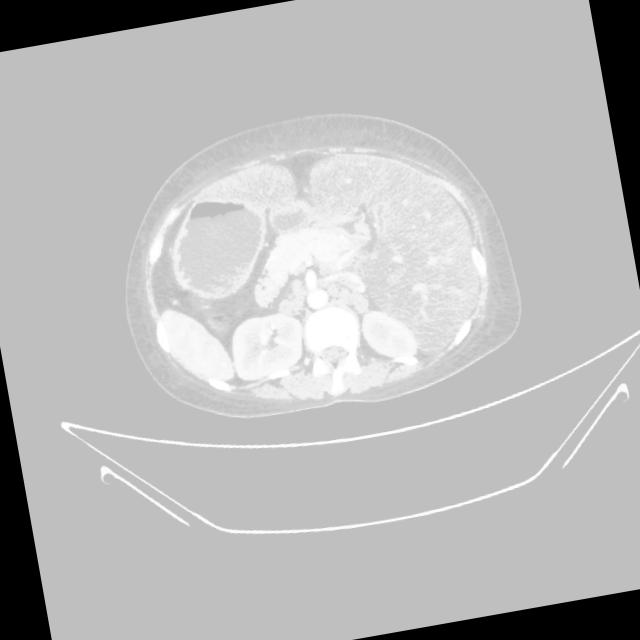NORMAL: (89, 67, 541, 438)
